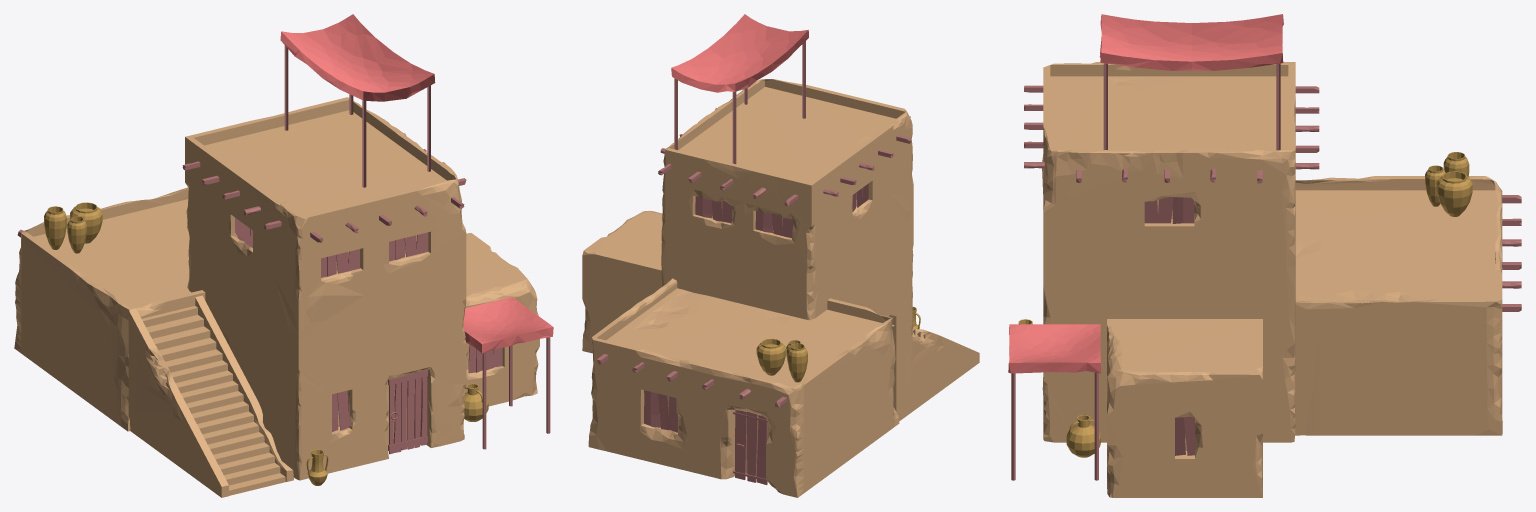
The model's file is house11.glb.
3 renders of one model, left to right at view 1: azimuth 30°, elevation 25°; view 2: azimuth 150°, elevation 25°; view 3: azimuth 270°, elevation 25°, orthographic. The views are drawn at different scales.
Visible parts, largest first — view 1: Object165; view 2: Object165; view 3: Object165.
Boxes of the visible parts, left/top/right/bottom form: Object165: left=14, top=14, right=553, bottom=497; Object165: left=582, top=14, right=979, bottom=497; Object165: left=1008, top=14, right=1521, bottom=497.
Bounding box in the file's own units: 9.8 × 9.4 × 11.28.
